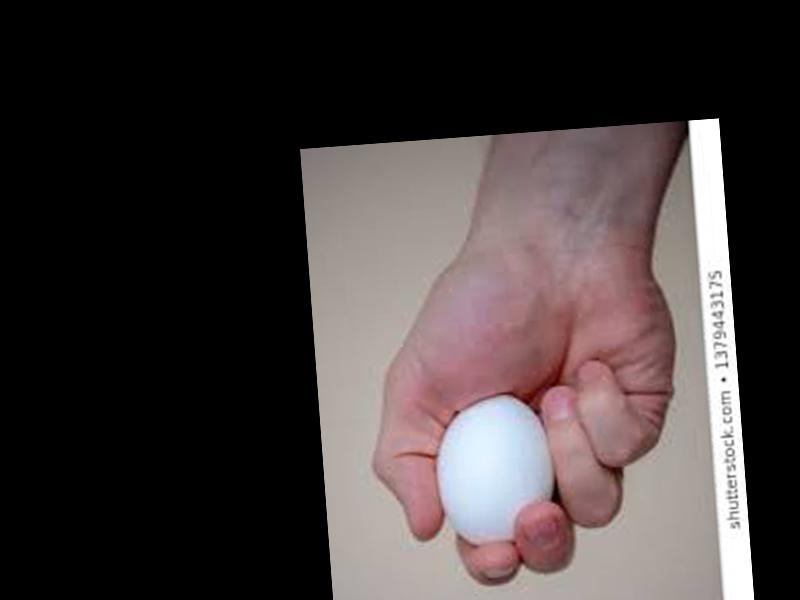Eggs: (431, 389, 557, 547)
